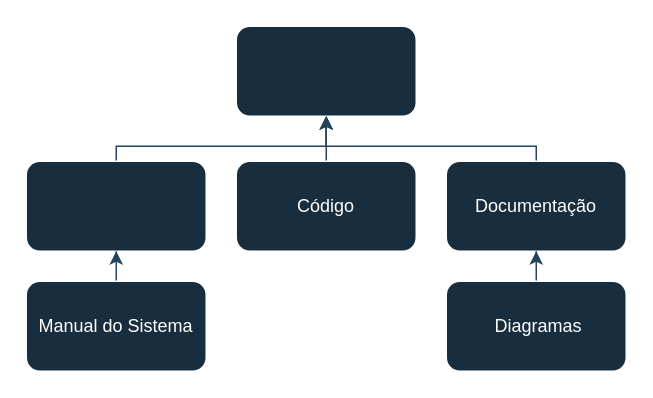
Image size: 653x398. Some labels were removed from this diagram. Here are the shapes that lost their labels. From the top down, the centre of each, then its label:
point (325, 70): Desenvolvimento de Software
point (115, 205): Requisitos
